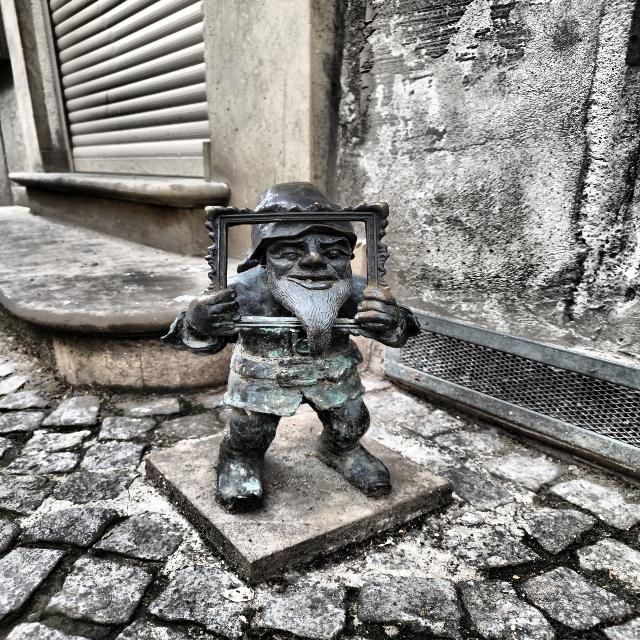Galeriusz: (162, 182, 420, 510)
